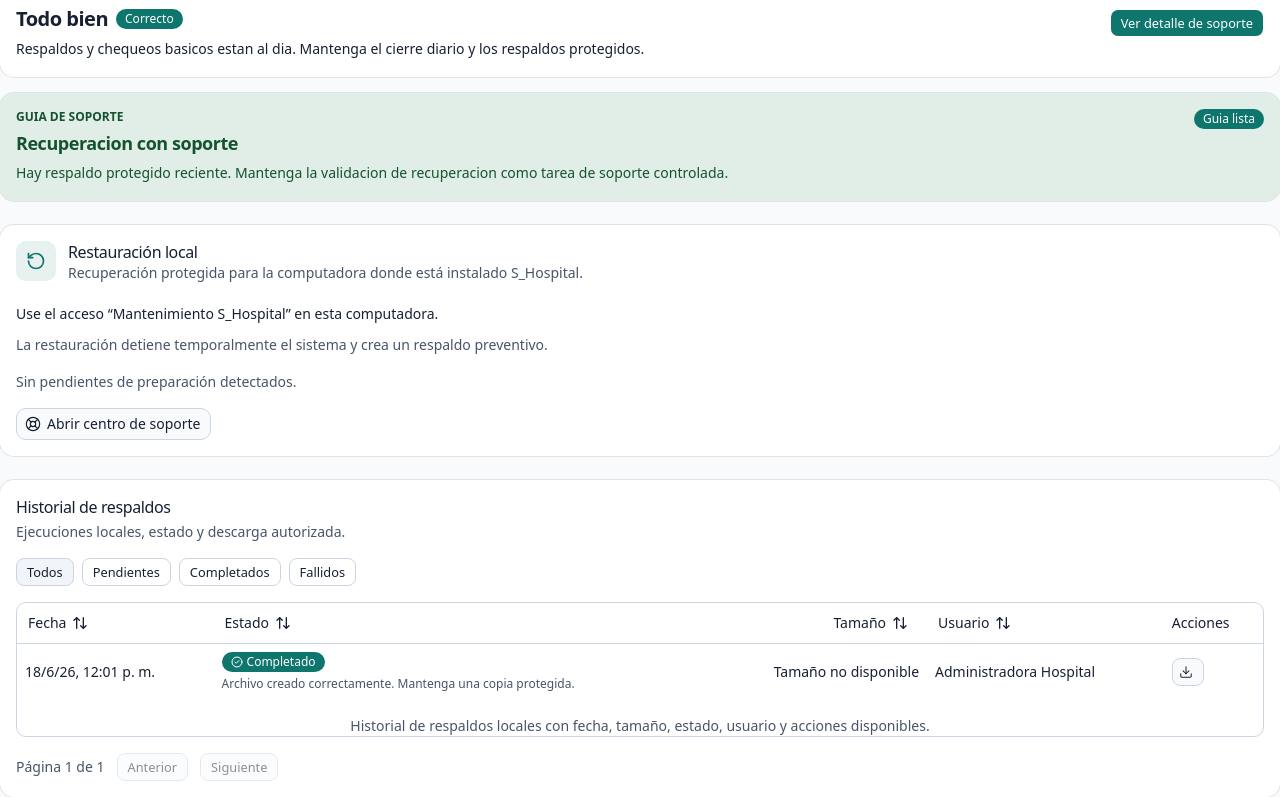
Scenario: BackupsView › treats malformed backup sizes as unavailable in history and download confirmation
The width and height of the screenshot is (1280, 797).
(page scrolled)
Expected: the table "Historial de respaldos locales" is shown, x1=17 y1=603 x2=1263 y2=736
Expected: the text "Tamaño no disponible" is shown, x1=710 y1=643 x2=927 y2=700
What coordinates should you click on to do the following:
click the button named "descargar respaldo del"
I would click on:
 (1188, 672)
Its box is x1=1172 y1=658 x2=1204 y2=686.
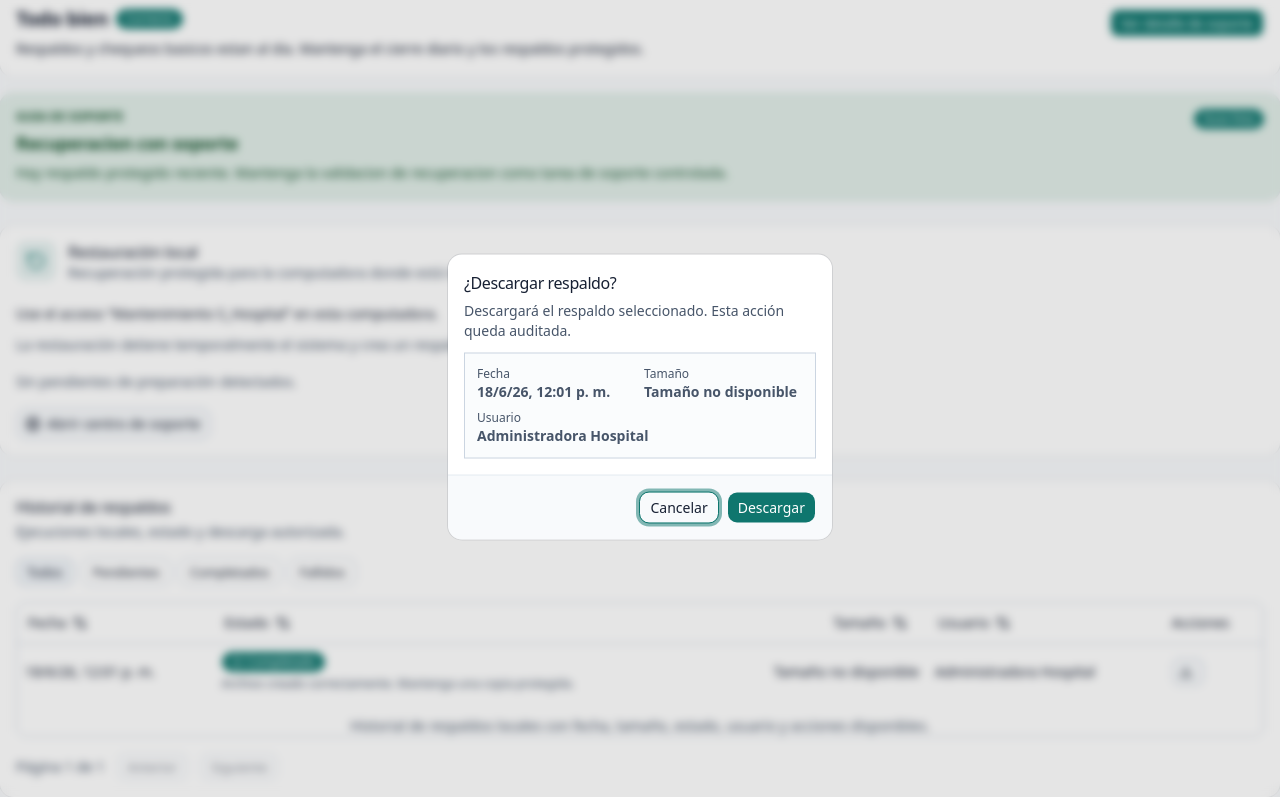
Expected: the dialog shows "tama.o no disponible", x1=644 y1=382 x2=797 y2=400
